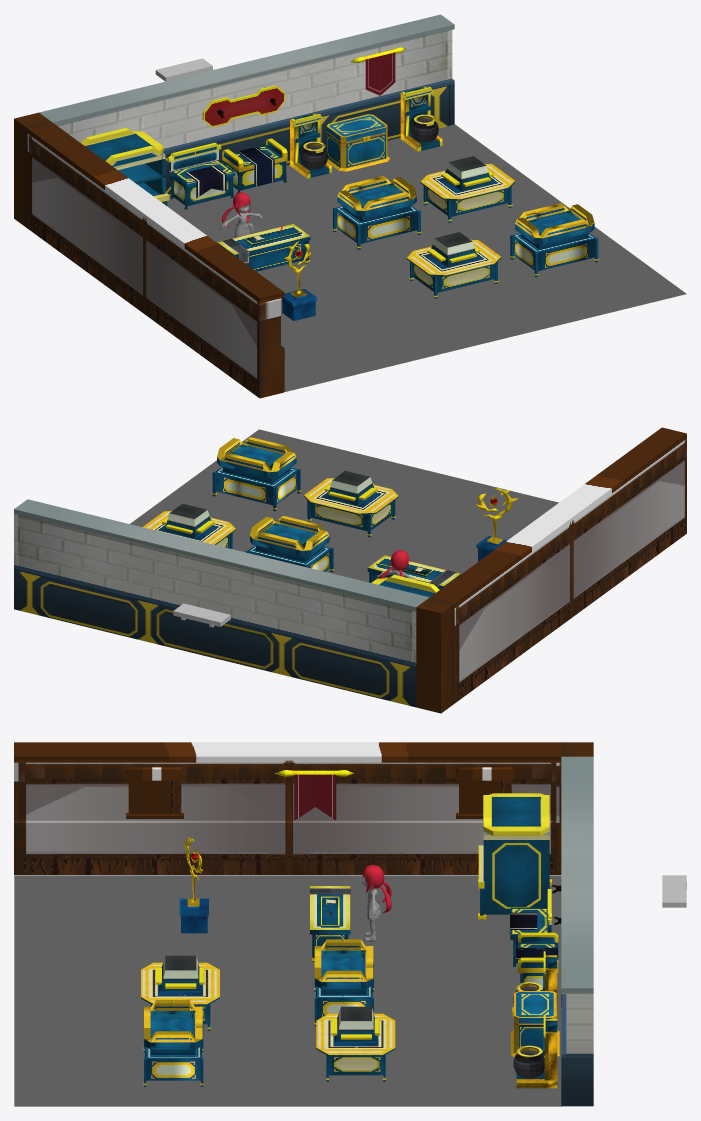
3 views of the same model, one above another, from view 1: azimuth 30°, elevation 25°; view 2: azimuth 150°, elevation 25°; view 3: azimuth 270°, elevation 25° (orthographic). The views are drawn at different scales.
Parts seen in each view (by area): view 1: window, 오브젝트003, 오브젝트005, Object528, Object529, Box124, Box122, 오브젝트004, Object523, 오브젝트001, Box123, Cylinder001 (+6 smaller); view 2: 오브젝트005, 오브젝트003, window, Object528, Box122, Object529, Box124, Cylinder001, Box117, Object001, 오브젝트004, Object062; view 3: window, 오브젝트003, 오브젝트005, 오브젝트004, Object528, Box124, Object529, Box122, Cylinder001, 오브젝트001, Object530, Box123 (+6 smaller).
Boxes of the visible parts, left/top/right/bottom form: window: left=167, top=124, right=686, bottom=391; 오브젝트003: left=14, top=112, right=284, bottom=398; 오브젝트005: left=39, top=14, right=454, bottom=194; Object528: left=510, top=203, right=599, bottom=277; Object529: left=332, top=176, right=421, bottom=249; Box124: left=420, top=156, right=515, bottom=222; Box122: left=406, top=232, right=501, bottom=298; 오브젝트004: left=81, top=127, right=169, bottom=205; Object523: left=167, top=142, right=235, bottom=209; 오브젝트001: left=202, top=47, right=406, bottom=127; Box123: left=326, top=114, right=389, bottom=171; Cylinder001: left=217, top=224, right=310, bottom=271; 오브젝트005: left=14, top=499, right=429, bottom=707; 오브젝트003: left=416, top=427, right=686, bottom=713; window: left=130, top=429, right=558, bottom=582; Object528: left=212, top=437, right=301, bottom=511; Box122: left=304, top=470, right=398, bottom=537; Object529: left=245, top=516, right=333, bottom=572; Box124: left=142, top=503, right=235, bottom=549; Cylinder001: left=367, top=555, right=460, bottom=589; Box117: left=476, top=487, right=518, bottom=561; Object001: left=173, top=603, right=230, bottom=627; 오브젝트004: left=371, top=574, right=439, bottom=597; Object062: left=377, top=550, right=417, bottom=580; window: left=14, top=875, right=561, bottom=1106; 오브젝트003: left=14, top=742, right=593, bottom=874; 오브젝트005: left=561, top=756, right=593, bottom=1106; 오브젝트004: left=478, top=793, right=551, bottom=919; Object528: left=143, top=1000, right=203, bottom=1086; Box124: left=316, top=1006, right=395, bottom=1081; Object529: left=314, top=939, right=373, bottom=1026; Box122: left=141, top=955, right=219, bottom=1030; Cylinder001: left=310, top=886, right=350, bottom=961; 오브젝트001: left=274, top=770, right=561, bottom=1007; Object530: left=513, top=1015, right=557, bottom=1088; Box123: left=511, top=991, right=559, bottom=1056.
Size of the model in its own units: 2127 by 477 by 2459.
